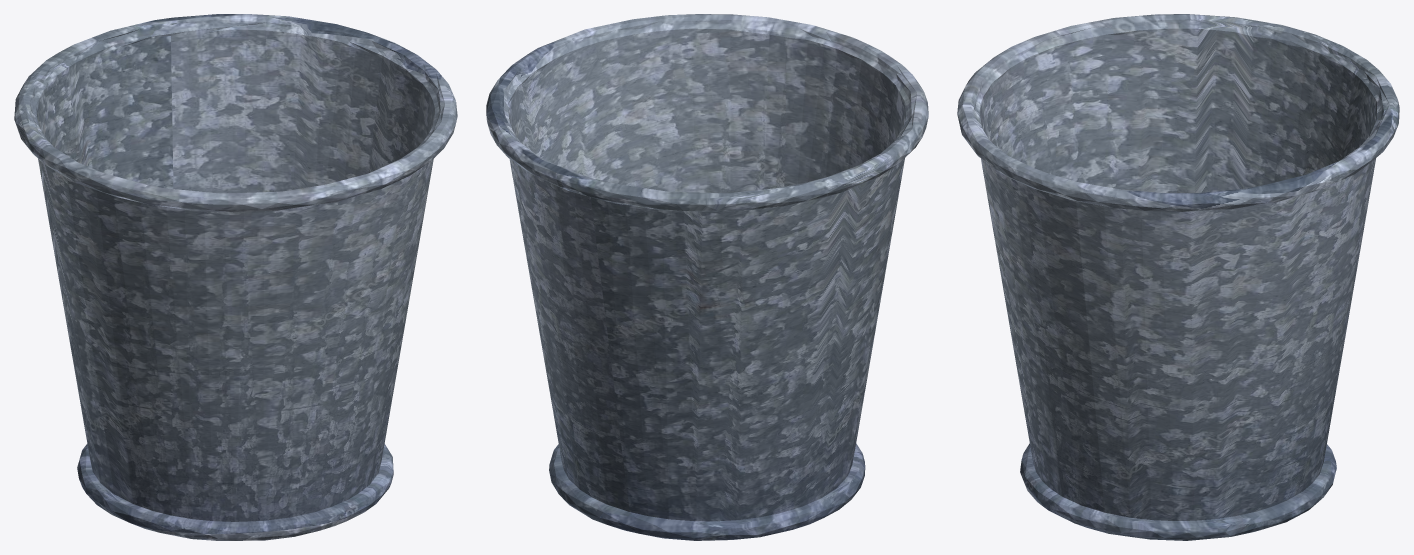
3 views of the same model, side by side, from view 1: azimuth 30°, elevation 25°; view 2: azimuth 150°, elevation 25°; view 3: azimuth 270°, elevation 25° (orthographic).
Visible parts, largest first — view 1: obj1; view 2: obj1; view 3: obj1.
Boxes of the visible parts, left/top/right/bottom form: obj1: left=14, top=14, right=457, bottom=540; obj1: left=486, top=14, right=928, bottom=540; obj1: left=957, top=14, right=1399, bottom=540.
Bounding box in the file's own units: 0.07 × 0.07 × 0.065.
1 material, 1 textured.
